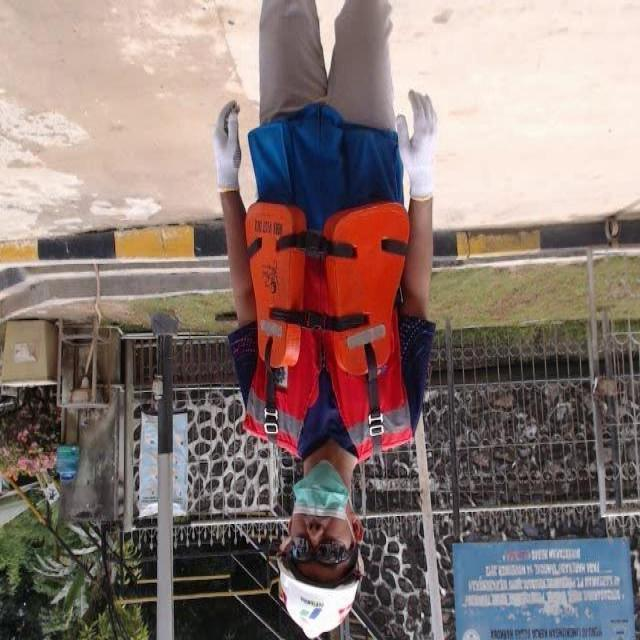helmet: (262, 548, 377, 640)
jacket: (240, 175, 433, 480)
